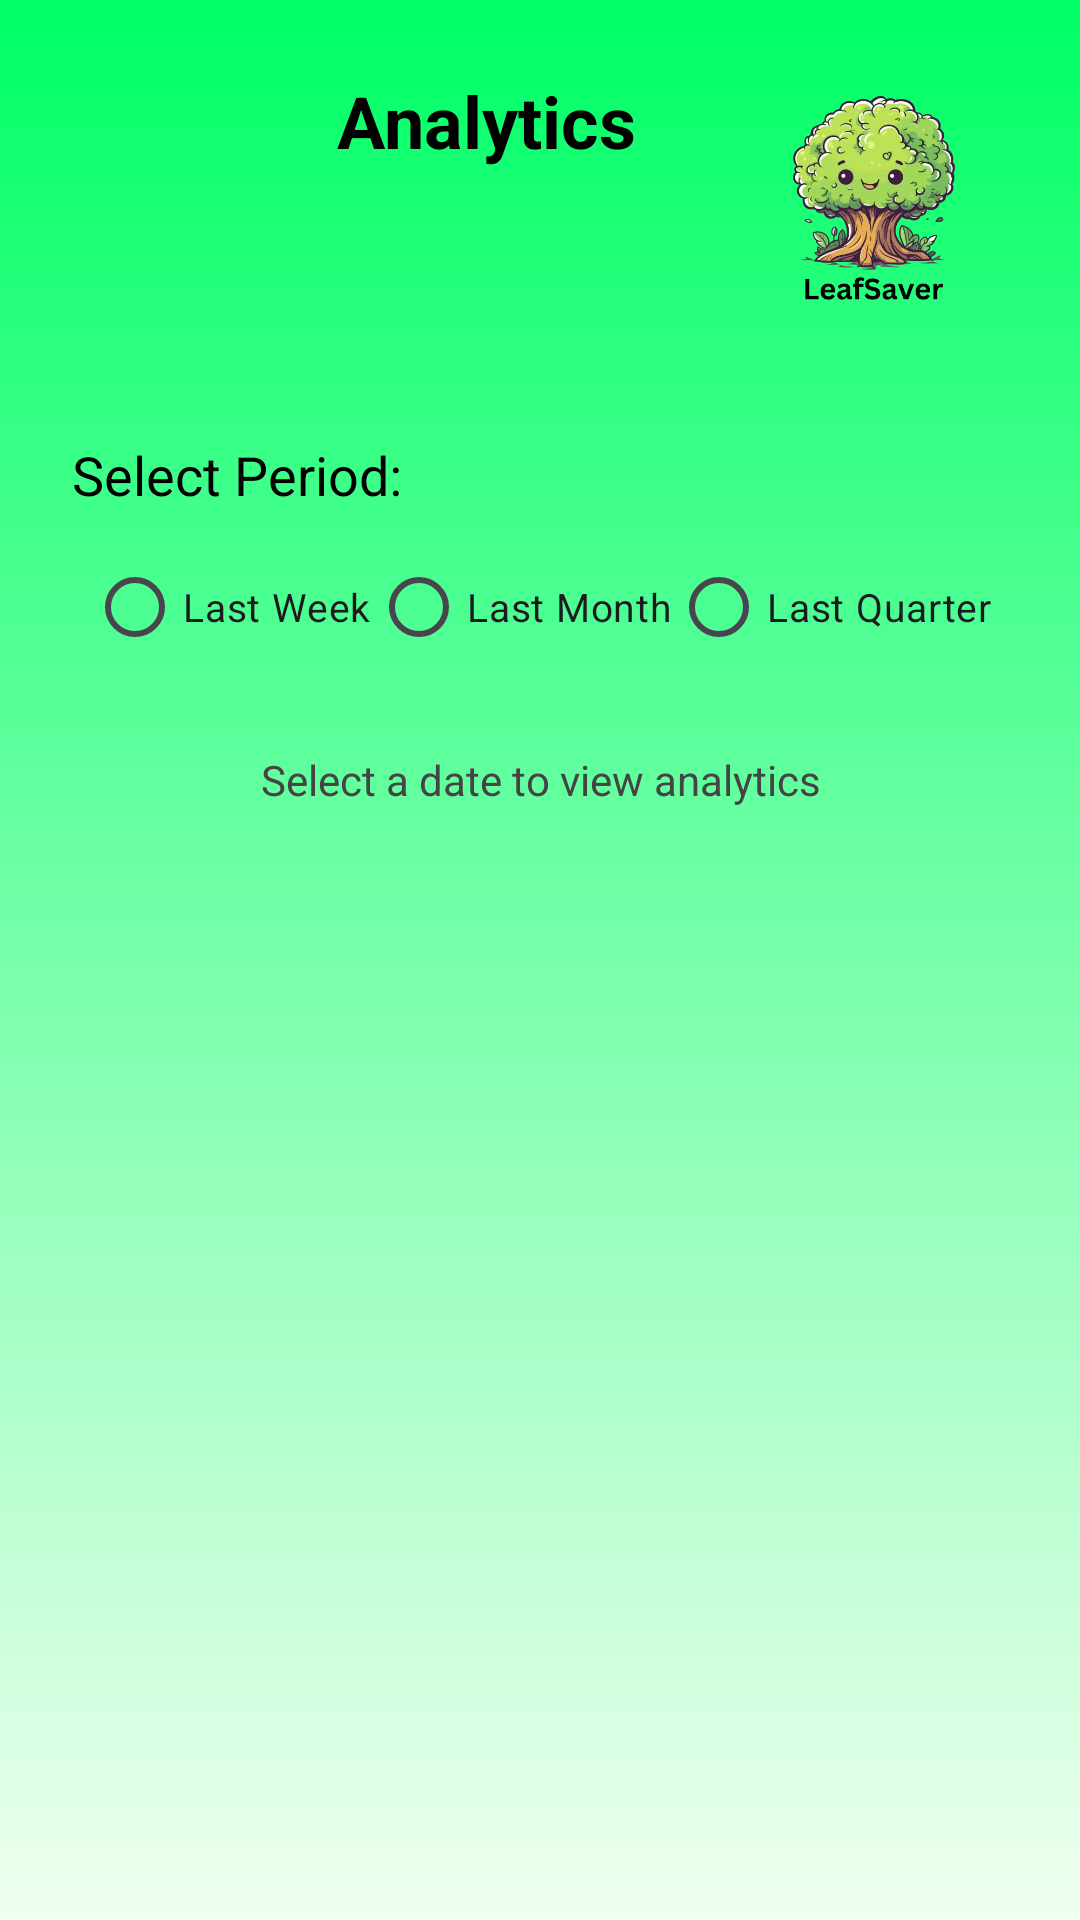

Named icons in this screenshot (1080x1920) and their centers, point (x, y):
Tree Icon: point (873, 219)
